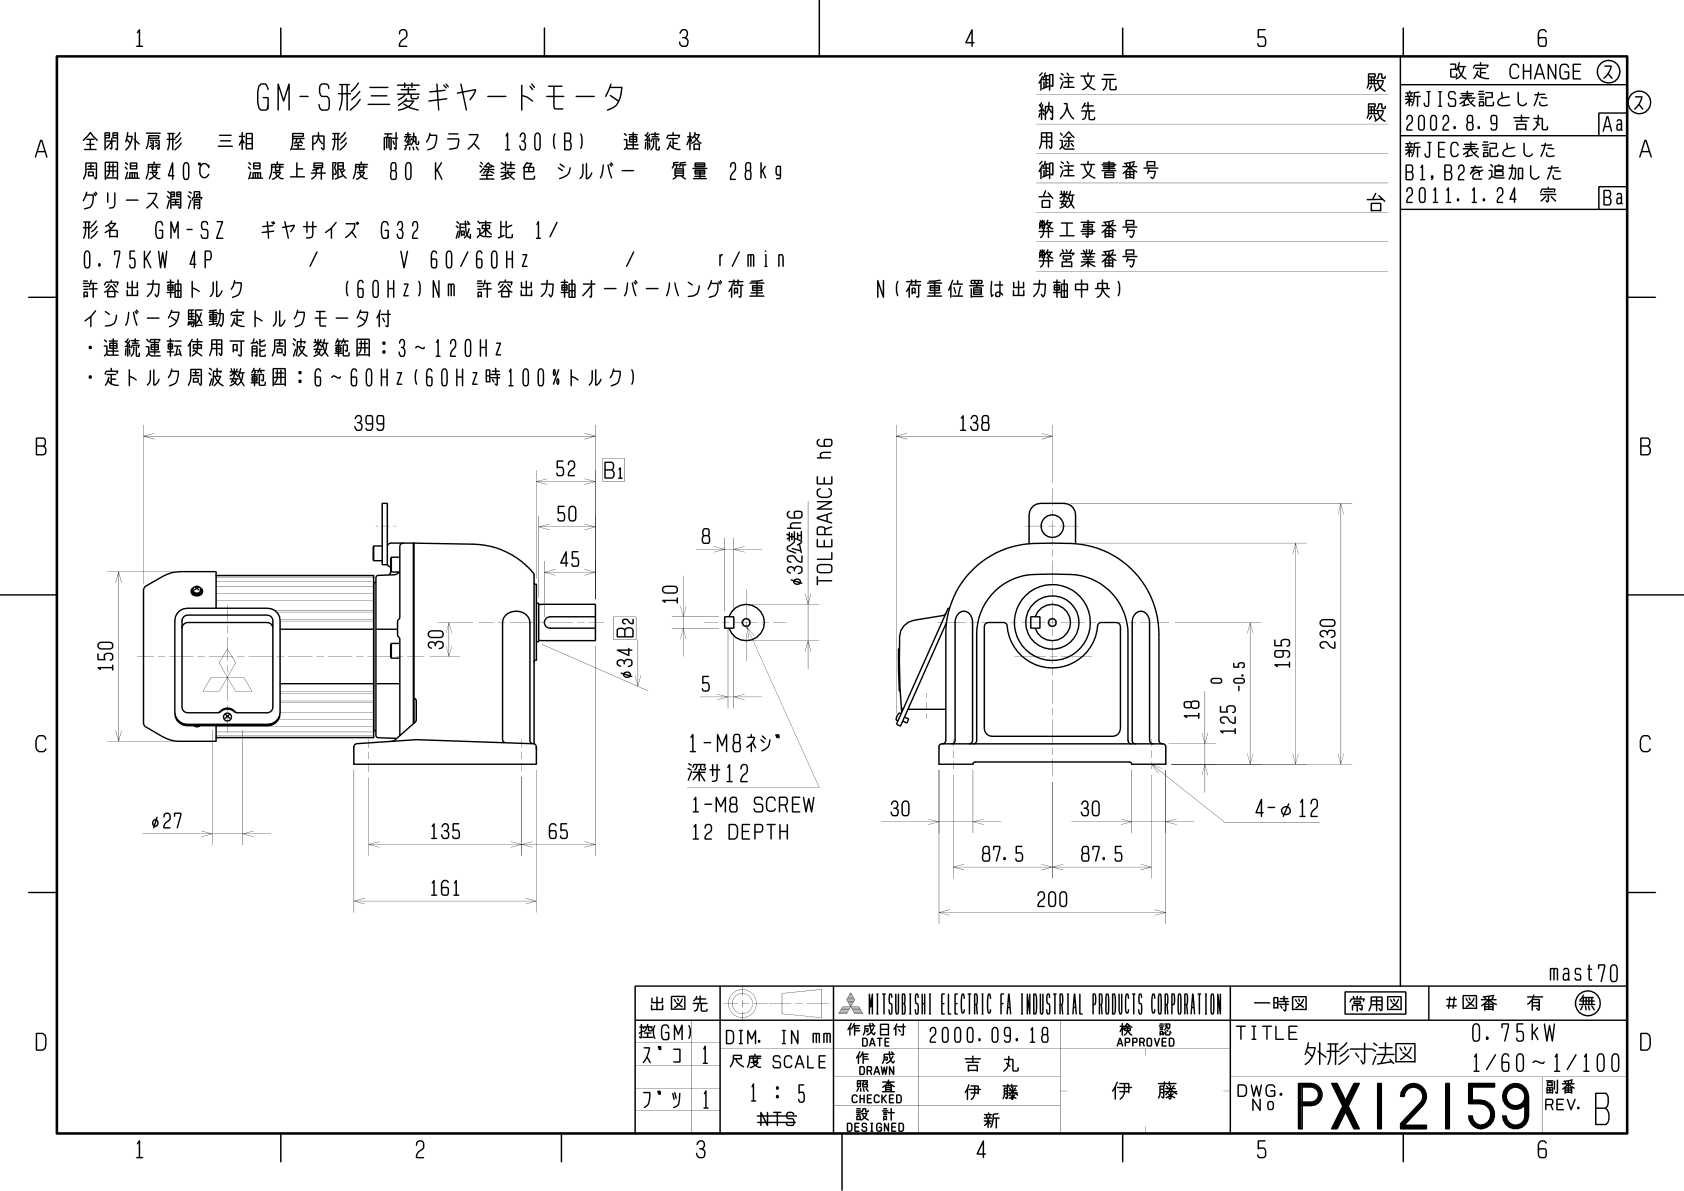GM_S_インバタ屋外＿三相_脚: (75, 402, 1371, 959)
